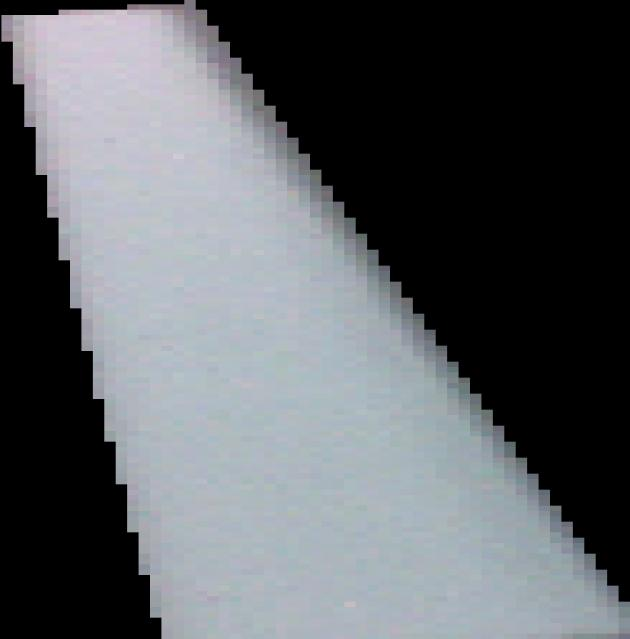curve: (0, 1, 630, 639)
